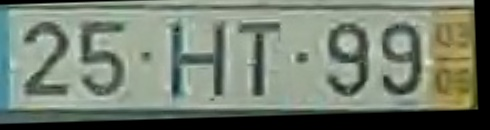2: (18, 18, 72, 98)
5: (77, 19, 128, 100)
9: (323, 18, 372, 100), (377, 19, 424, 99)
H: (165, 17, 227, 101)
T: (234, 17, 284, 100)
